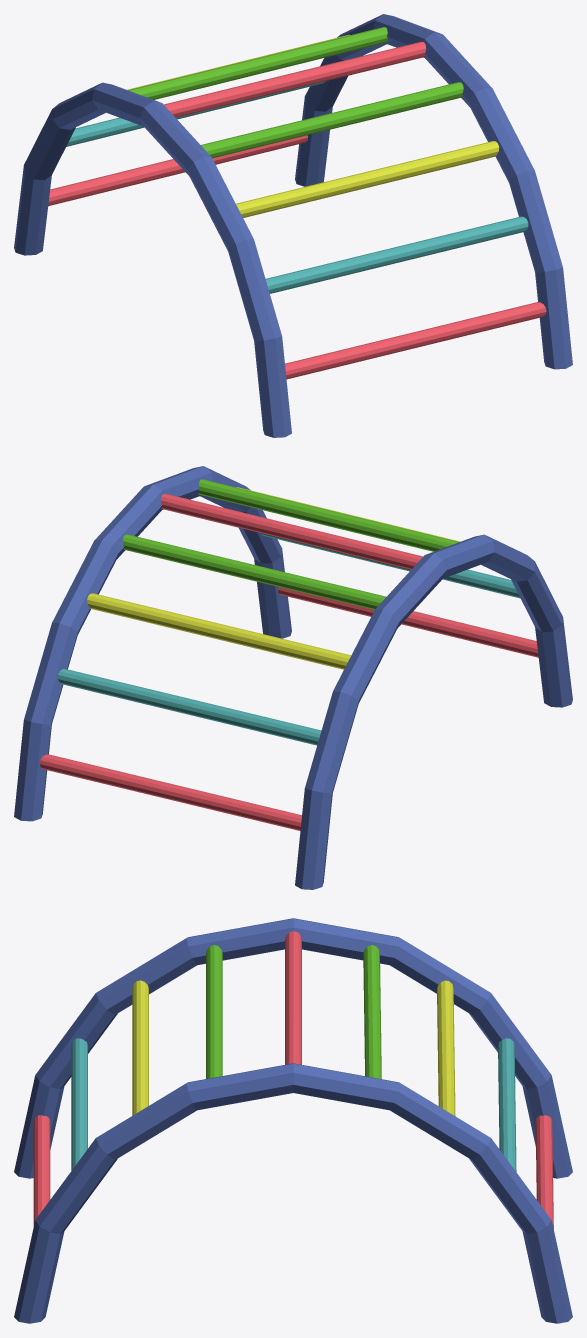
Rendered from D1_PLAYGROUND_1.fbx.
The picture shows the model from 3 angles, top to bottom: view 1: azimuth 30°, elevation 25°; view 2: azimuth 150°, elevation 25°; view 3: azimuth 270°, elevation 25°; orthographic projection. The views are drawn at different scales.
Visible parts, largest first — view 1: D1_PLAYGROUND_1; view 2: D1_PLAYGROUND_1; view 3: D1_PLAYGROUND_1.
Part boxes in pixels (x1,y1,x2,y2): D1_PLAYGROUND_1: (14, 14, 572, 437); D1_PLAYGROUND_1: (14, 466, 572, 889); D1_PLAYGROUND_1: (14, 918, 572, 1323).
Bounding box in the file's own units: 226 × 169 × 337.
